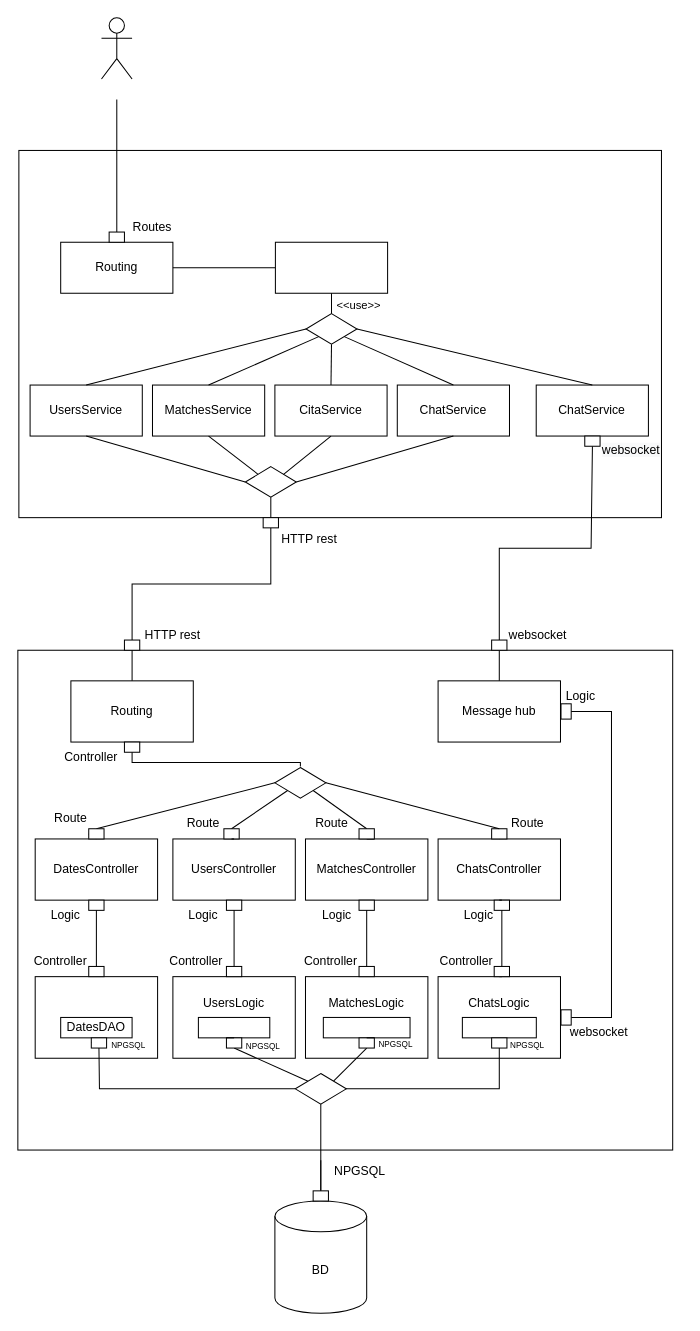
Image size: 700x1331. Some labels were removed from this diagram. The box of each missing label's shape, as (x1, y1, x2, y2) in pixels:
Actor: (100, 17, 132, 79)
Backend: (17, 649, 673, 1150)
ChatsDAO: (461, 1016, 536, 1038)
Components: (274, 241, 388, 293)
DatesLogic: (34, 976, 158, 1058)
Frontend: (18, 149, 661, 518)
MatchesDAO: (322, 1016, 410, 1038)
UsersDAO: (197, 1016, 270, 1038)
